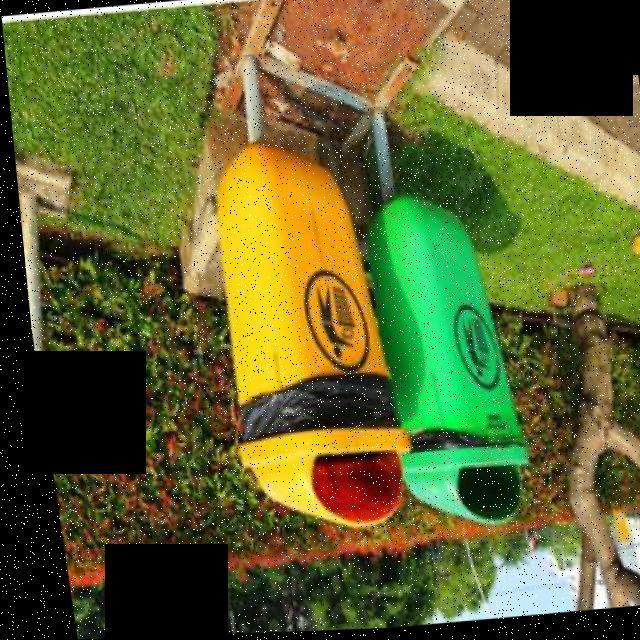bin: (173, 119, 409, 546), (347, 179, 544, 552)
